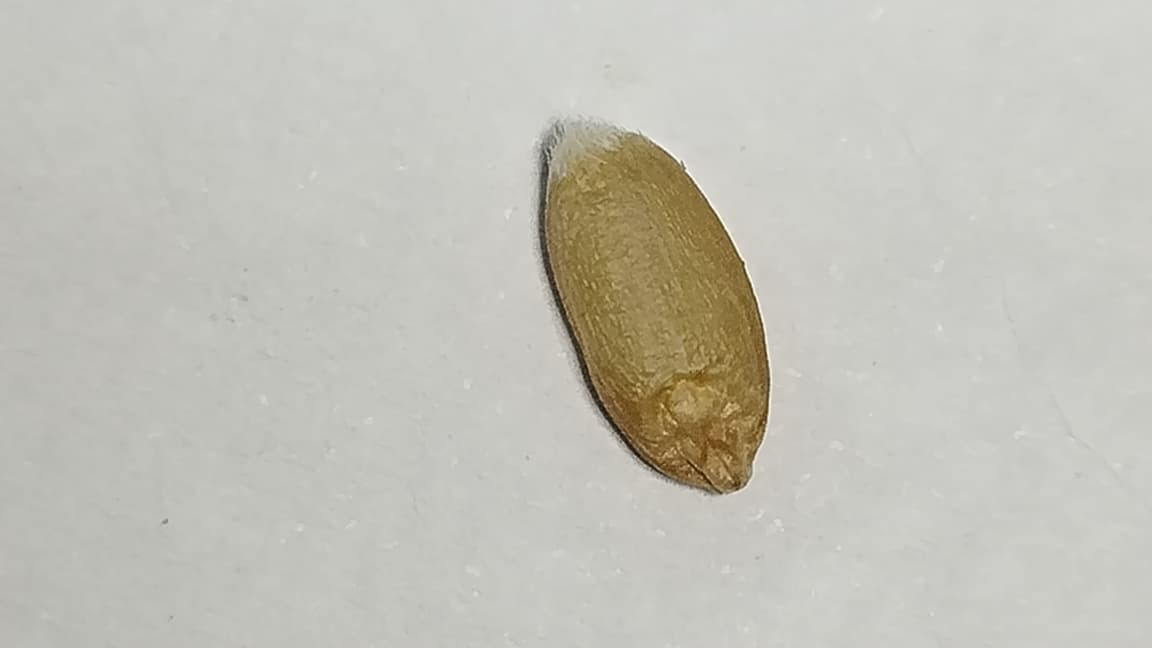healthy: (543, 118, 770, 493)
